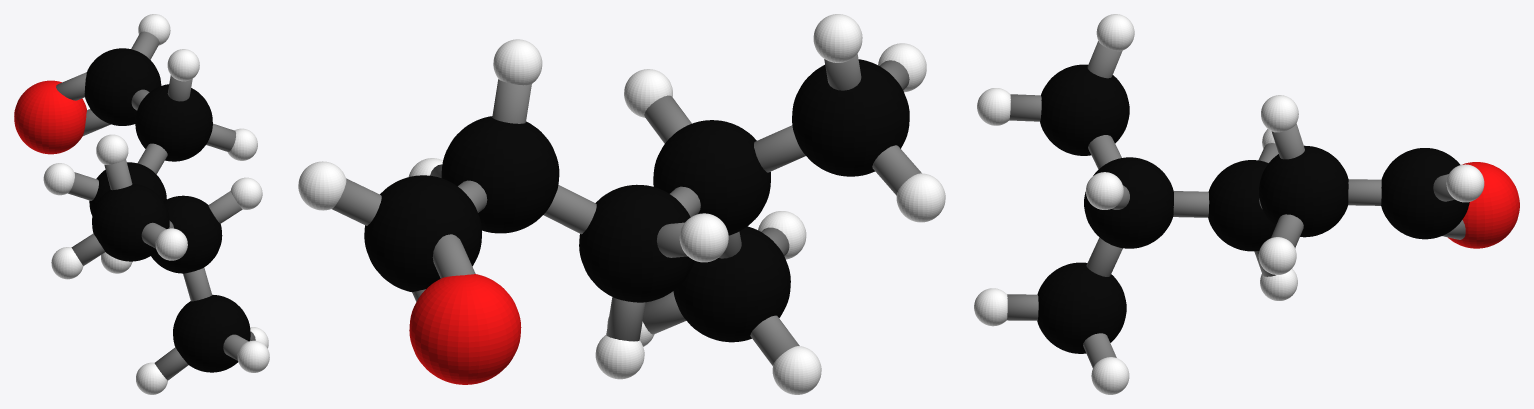
The model's file is METILPENTANAL.obj.
3 renders of one model, left to right at view 1: azimuth 30°, elevation 25°; view 2: azimuth 150°, elevation 25°; view 3: azimuth 270°, elevation 25°, orthographic. The views are drawn at different scales.
Parts seen in each view (by area): view 1: Carbon_ball_Sphere, Hydrogen_ball_Sphere.001, Oxygen_ball_Sphere.002, Stick_Cylinder.015_Cylinder.015, Stick_Cylinder.008_Cylinder.008, Stick_Cylinder.016_Cylinder.016, Stick_Cylinder.012_Cylinder.012, Stick_Cylinder.009_Cylinder.009, Stick_Cylinder.007_Cylinder.007, Stick_Cylinder.003_Cylinder.003, Stick_Cylinder.006_Cylinder.006, Stick_Cylinder_Cylinder (+5 smaller); view 2: Carbon_ball_Sphere, Hydrogen_ball_Sphere.001, Oxygen_ball_Sphere.002, Stick_Cylinder.006_Cylinder.006, Stick_Cylinder.017_Cylinder.017, Stick_Cylinder.001_Cylinder.001, Stick_Cylinder.004_Cylinder.004, Stick_Cylinder.011_Cylinder.011, Stick_Cylinder.016_Cylinder.016, Stick_Cylinder_Cylinder, Stick_Cylinder.012_Cylinder.012, Stick_Cylinder.008_Cylinder.008 (+3 smaller); view 3: Carbon_ball_Sphere, Hydrogen_ball_Sphere.001, Oxygen_ball_Sphere.002, Stick_Cylinder.005_Cylinder.005, Stick_Cylinder.002_Cylinder.002, Stick_Cylinder.015_Cylinder.015, Stick_Cylinder.010_Cylinder.010, Stick_Cylinder.014_Cylinder.014, Stick_Cylinder.009_Cylinder.009, Stick_Cylinder.011_Cylinder.011, Stick_Cylinder.017_Cylinder.017, Stick_Cylinder.013_Cylinder.013 (+1 smaller).
Boxes of the visible parts, box(x1,y1,x2,y2) form: Carbon_ball_Sphere: box(84, 48, 250, 372); Hydrogen_ball_Sphere.001: box(43, 14, 269, 394); Oxygen_ball_Sphere.002: box(14, 80, 86, 154); Stick_Cylinder.015_Cylinder.015: box(183, 267, 211, 301); Stick_Cylinder.008_Cylinder.008: box(208, 191, 242, 223); Stick_Cylinder.016_Cylinder.016: box(154, 347, 188, 380); Stick_Cylinder.012_Cylinder.012: box(71, 233, 104, 265); Stick_Cylinder.009_Cylinder.009: box(104, 159, 132, 190); Stick_Cylinder.007_Cylinder.007: box(68, 172, 98, 200); Stick_Cylinder.003_Cylinder.003: box(206, 123, 235, 151); Stick_Cylinder.006_Cylinder.006: box(137, 143, 167, 174); Stick_Cylinder_Cylinder: box(56, 72, 86, 100); Carbon_ball_Sphere: box(364, 59, 909, 342); Hydrogen_ball_Sphere.001: box(298, 14, 945, 394); Oxygen_ball_Sphere.002: box(409, 274, 521, 384); Stick_Cylinder.006_Cylinder.006: box(543, 185, 596, 234); Stick_Cylinder.017_Cylinder.017: box(754, 125, 805, 172); Stick_Cylinder.001_Cylinder.001: box(332, 178, 381, 225); Stick_Cylinder.004_Cylinder.004: box(606, 297, 645, 341); Stick_Cylinder.011_Cylinder.011: box(492, 79, 531, 123); Stick_Cylinder.016_Cylinder.016: box(750, 315, 799, 365); Stick_Cylinder_Cylinder: box(432, 234, 475, 278); Stick_Cylinder.012_Cylinder.012: box(872, 145, 921, 195); Stick_Cylinder.008_Cylinder.008: box(644, 95, 691, 143); Carbon_ball_Sphere: box(1037, 64, 1469, 353); Hydrogen_ball_Sphere.001: box(974, 14, 1484, 394); Oxygen_ball_Sphere.002: box(1448, 162, 1519, 248); Stick_Cylinder.005_Cylinder.005: box(1173, 191, 1209, 217); Stick_Cylinder.002_Cylinder.002: box(1348, 179, 1381, 205); Stick_Cylinder.015_Cylinder.015: box(1086, 237, 1122, 276); Stick_Cylinder.010_Cylinder.010: box(1009, 94, 1041, 121); Stick_Cylinder.014_Cylinder.014: box(1007, 294, 1038, 320); Stick_Cylinder.009_Cylinder.009: box(1087, 41, 1122, 78); Stick_Cylinder.011_Cylinder.011: box(1271, 123, 1304, 159); Stick_Cylinder.017_Cylinder.017: box(1088, 135, 1121, 169); Stick_Cylinder.013_Cylinder.013: box(1083, 333, 1116, 367).
Size of the model in its own units: 5.68 by 5.13 by 8.27.
